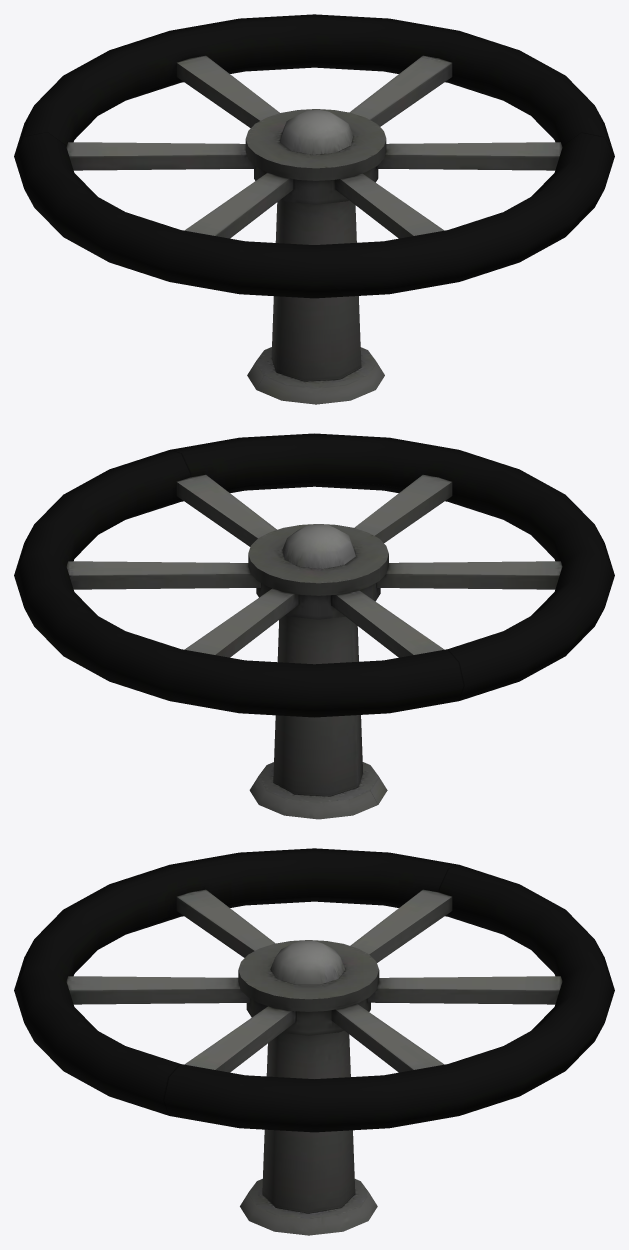
3 views of the same model, one above another, from view 1: azimuth 30°, elevation 25°; view 2: azimuth 150°, elevation 25°; view 3: azimuth 270°, elevation 25° (orthographic).
Visible parts, largest first — view 1: body0_model0_lod0_mesh0; view 2: body0_model0_lod0_mesh0; view 3: body0_model0_lod0_mesh0.
Part boxes in pixels (x1,y1,x2,y2): body0_model0_lod0_mesh0: (14,14,614,404); body0_model0_lod0_mesh0: (14,433,614,819); body0_model0_lod0_mesh0: (14,848,614,1235).
Size of the model in its own units: 21.3 by 10.22 by 21.3.
1 material, 1 textured.
